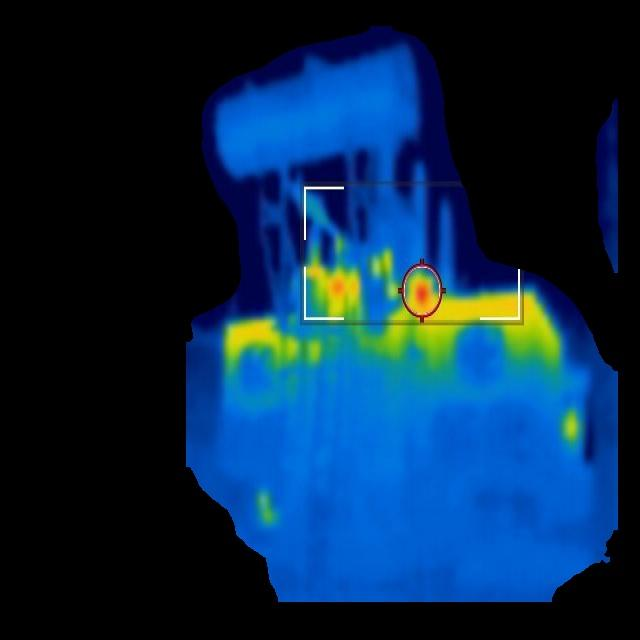Loose Joint F: (402, 272, 441, 312)
Loose Joint PF: (306, 259, 366, 317)
Transformer Overload: (222, 300, 567, 385)
